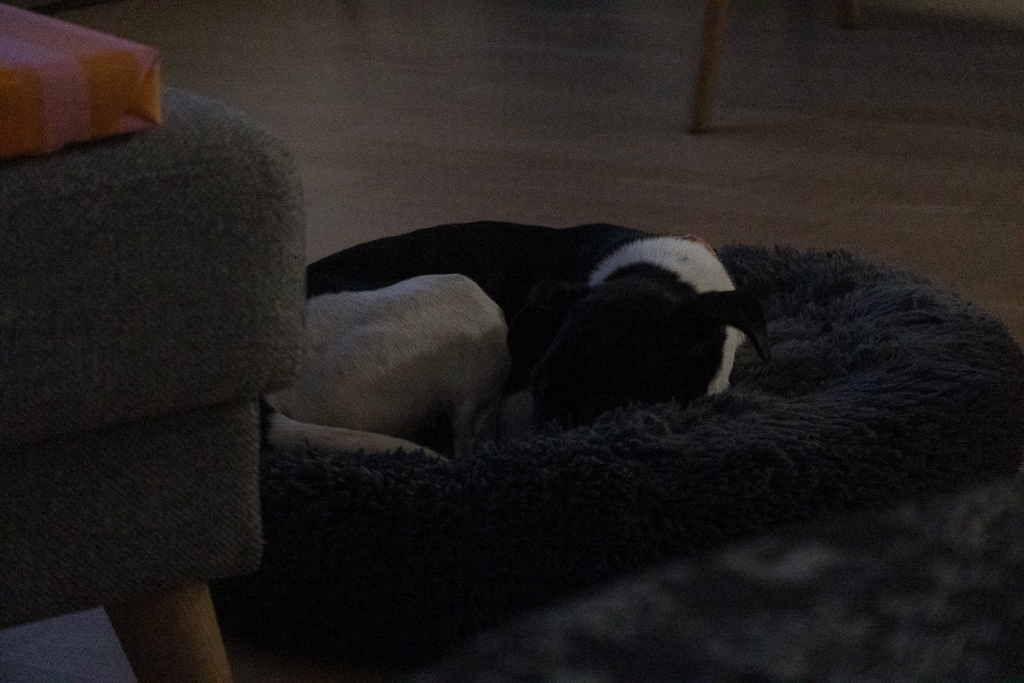Dog: (234, 193, 798, 501)
